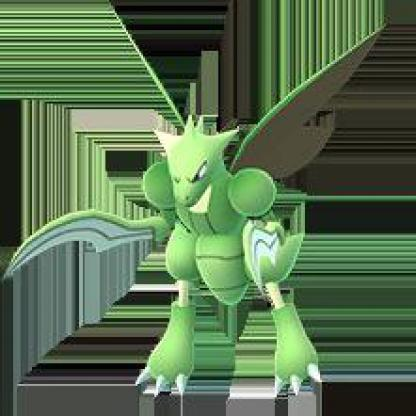Scyther: (1, 1, 416, 410)
